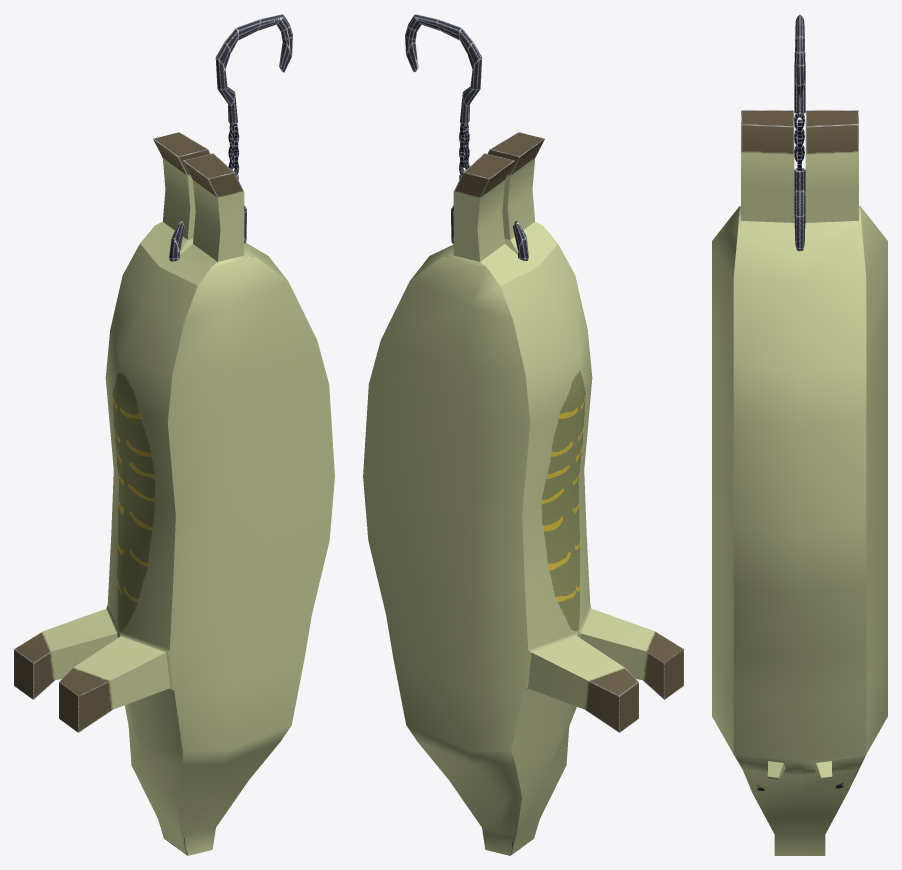
The model's file is sm_meatHook_2.fbx.
The picture shows the model from 3 angles, left to right: view 1: azimuth 30°, elevation 25°; view 2: azimuth 150°, elevation 25°; view 3: azimuth 270°, elevation 25°; orthographic projection. The views are drawn at different scales.
Visible parts, largest first — view 1: pCylinder5; view 2: pCylinder5; view 3: pCylinder5.
Boxes of the visible parts, <box> form: pCylinder5: <box>14,14,334,855</box>; pCylinder5: <box>363,14,683,855</box>; pCylinder5: <box>712,14,887,855</box>.
Size of the model in its own units: 74.55 by 206 by 38.1.
